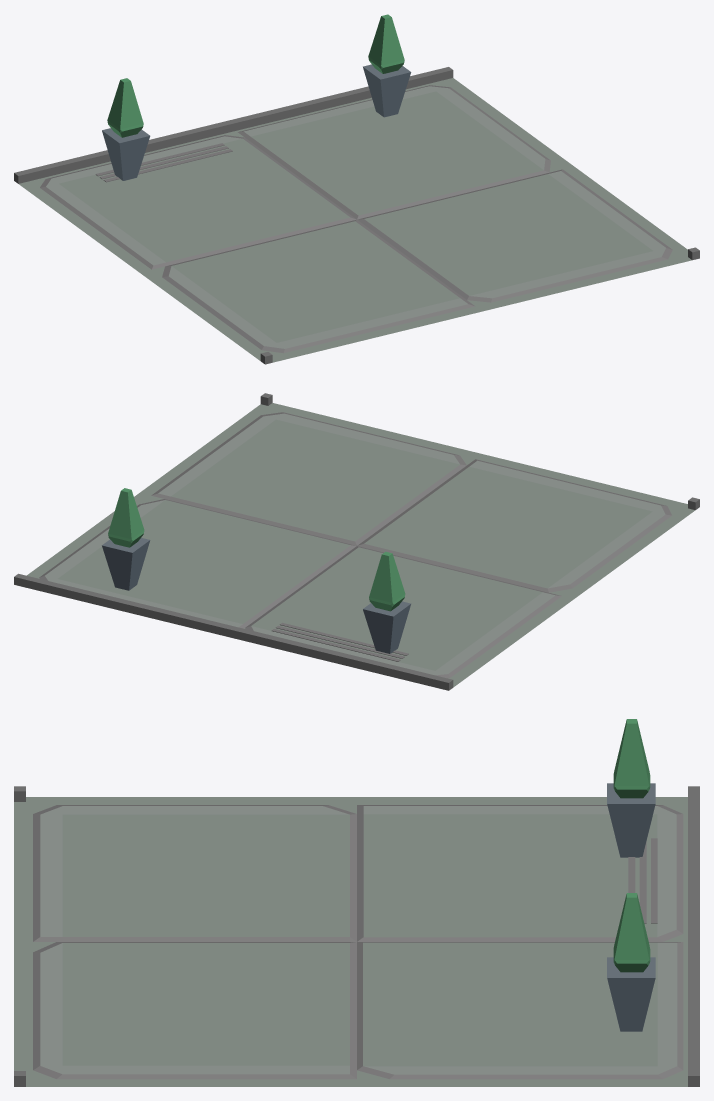
File: Fork_D.gltf
3 views of the same model, one above another, from view 1: azimuth 30°, elevation 25°; view 2: azimuth 150°, elevation 25°; view 3: azimuth 270°, elevation 25° (orthographic). The views are drawn at different scales.
Parts seen in each view (by area): view 1: Scifi_Panel_03 Plaza014_group4.026; view 2: Scifi_Panel_03 Plaza014_group4.026; view 3: Scifi_Panel_03 Plaza014_group4.026.
Part boxes in pixels (x1,y1,x2,y2): Scifi_Panel_03 Plaza014_group4.026: [14, 14, 699, 364]; Scifi_Panel_03 Plaza014_group4.026: [14, 393, 699, 690]; Scifi_Panel_03 Plaza014_group4.026: [14, 719, 699, 1086].
Size of what is drawn, in the model's own units: 10 by 2.2 by 10.
Materials: 1 (1 with a texture image).
